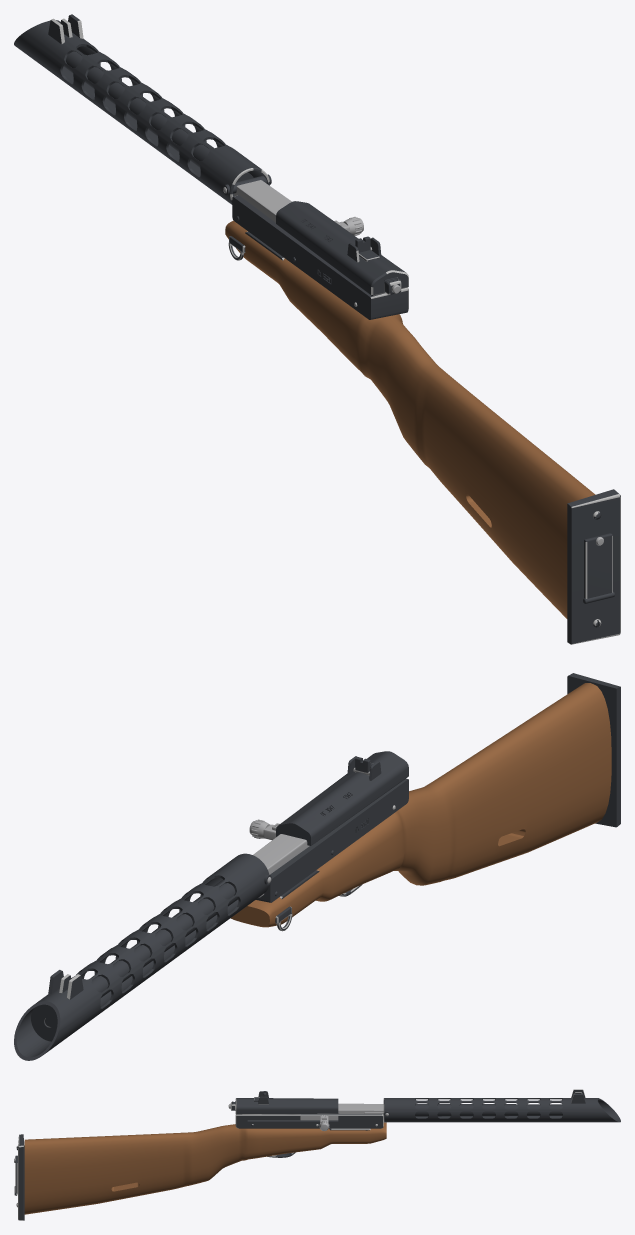
Rendered from ppsh.glb.
3 views of the same model, one above another, from view 1: azimuth 30°, elevation 25°; view 2: azimuth 150°, elevation 25°; view 3: azimuth 270°, elevation 25° (orthographic). The views are drawn at different scales.
Visible parts, largest first — view 1: static, bolt; view 2: static, bolt; view 3: static, bolt.
Boxes of the visible parts, bbox=[...] form: static: bbox=[14, 14, 620, 644]; bolt: bbox=[234, 180, 363, 235]; static: bbox=[14, 673, 620, 1060]; bolt: bbox=[249, 819, 309, 897]; static: bbox=[14, 1089, 620, 1220]; bolt: bbox=[300, 1103, 386, 1131].
Bounding box in the file's own units: 0.0698 × 0.1945 × 0.8696.
